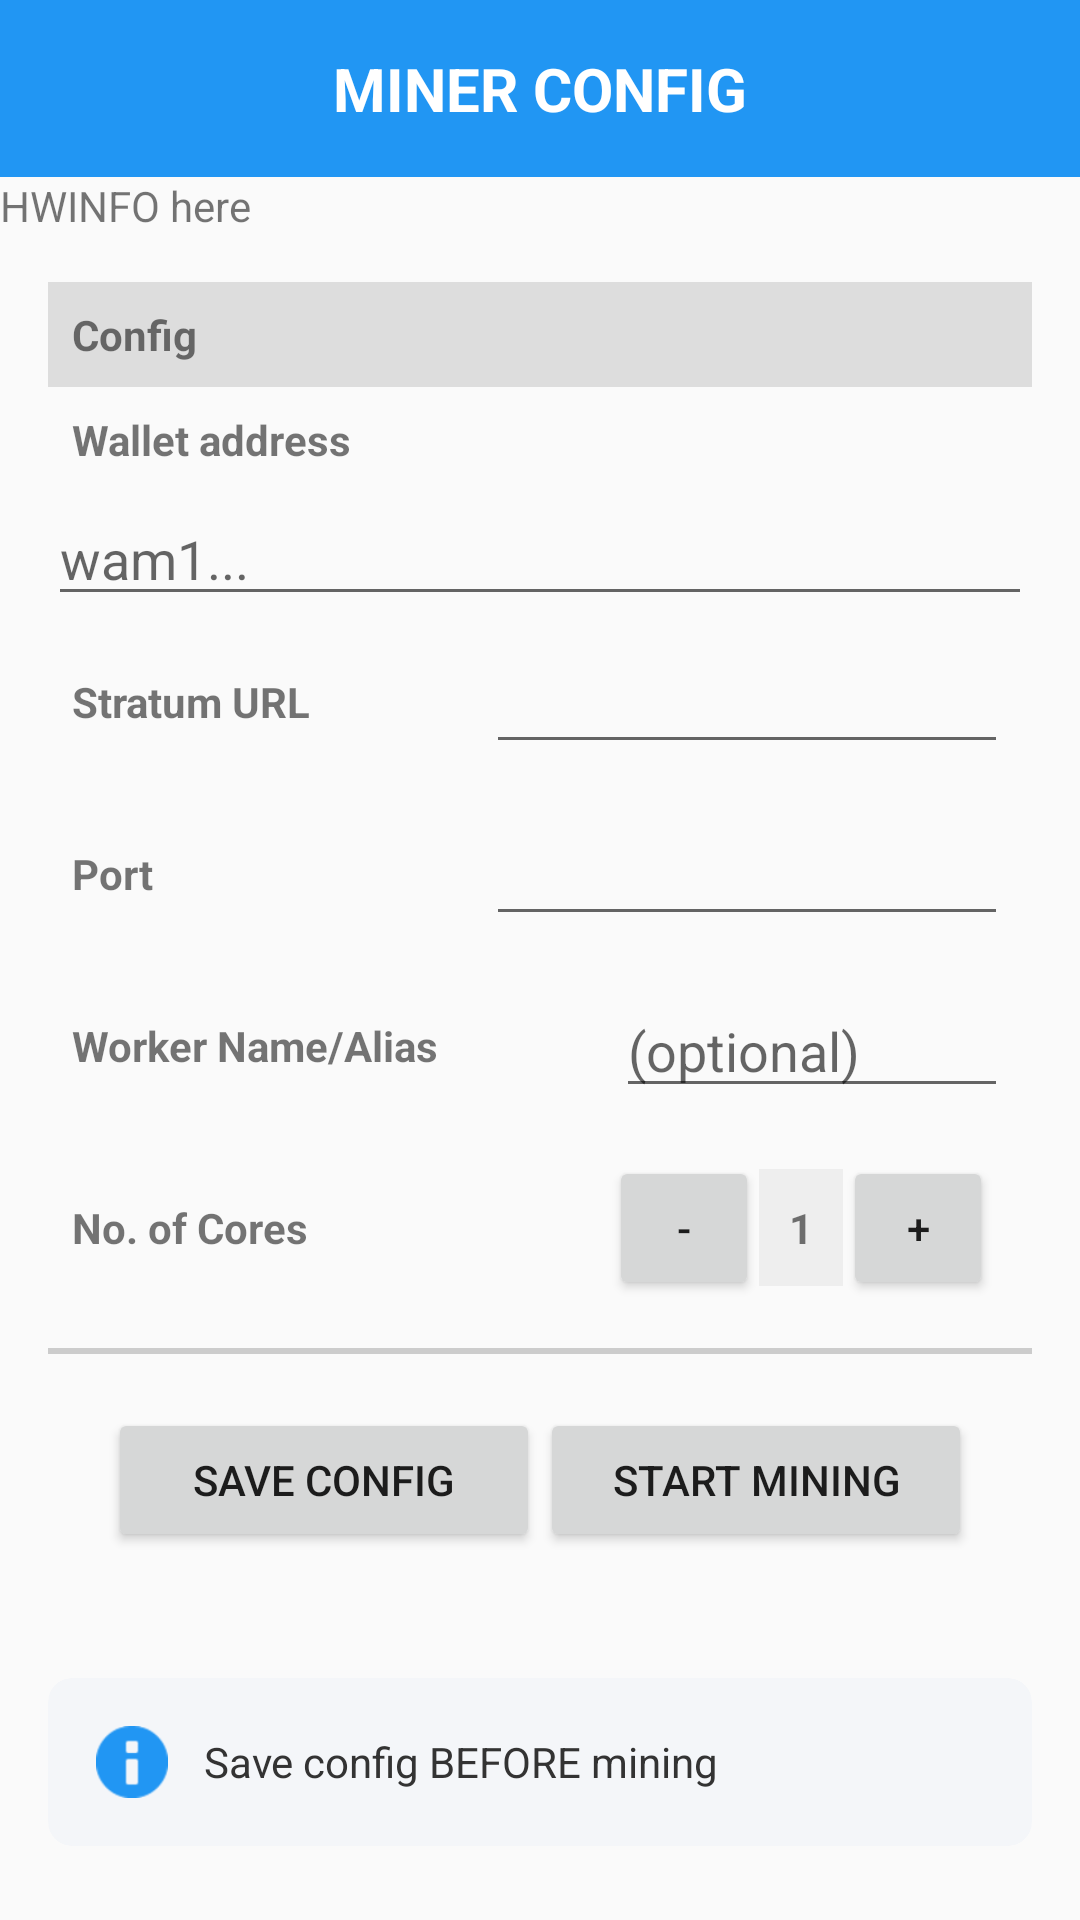

Named icons in this screenshot (1080px x 1920px) and their bounding boxes, {"left": x1, "top": y1, "right": x2, "bottom": y2}:
Info Icon: {"left": 96, "top": 1726, "right": 168, "bottom": 1798}
